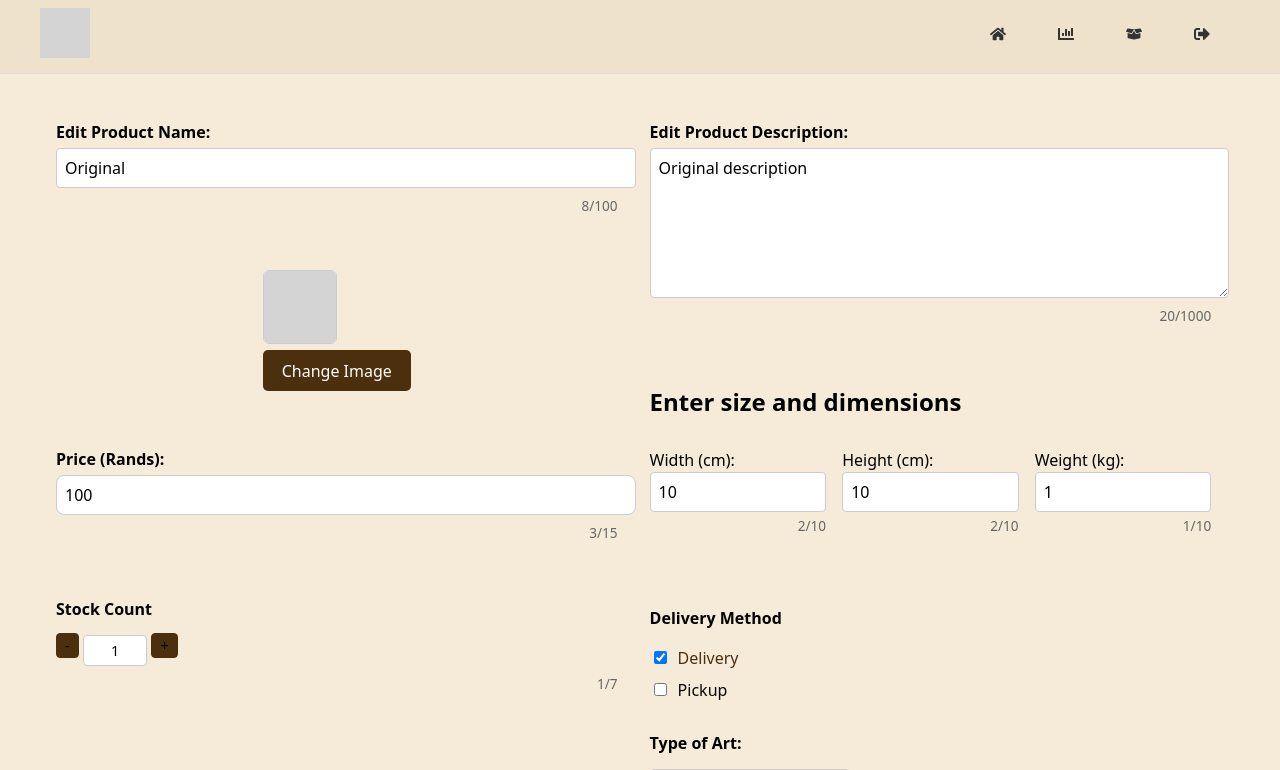
Test: EditProductPage Functional Tests › missing fields show warning popup
This screenshot has width=1280, height=770.
Clear the field labelled "Edit Product Name:" at (346, 168), box [56,148,636,188]
(page scrolled)
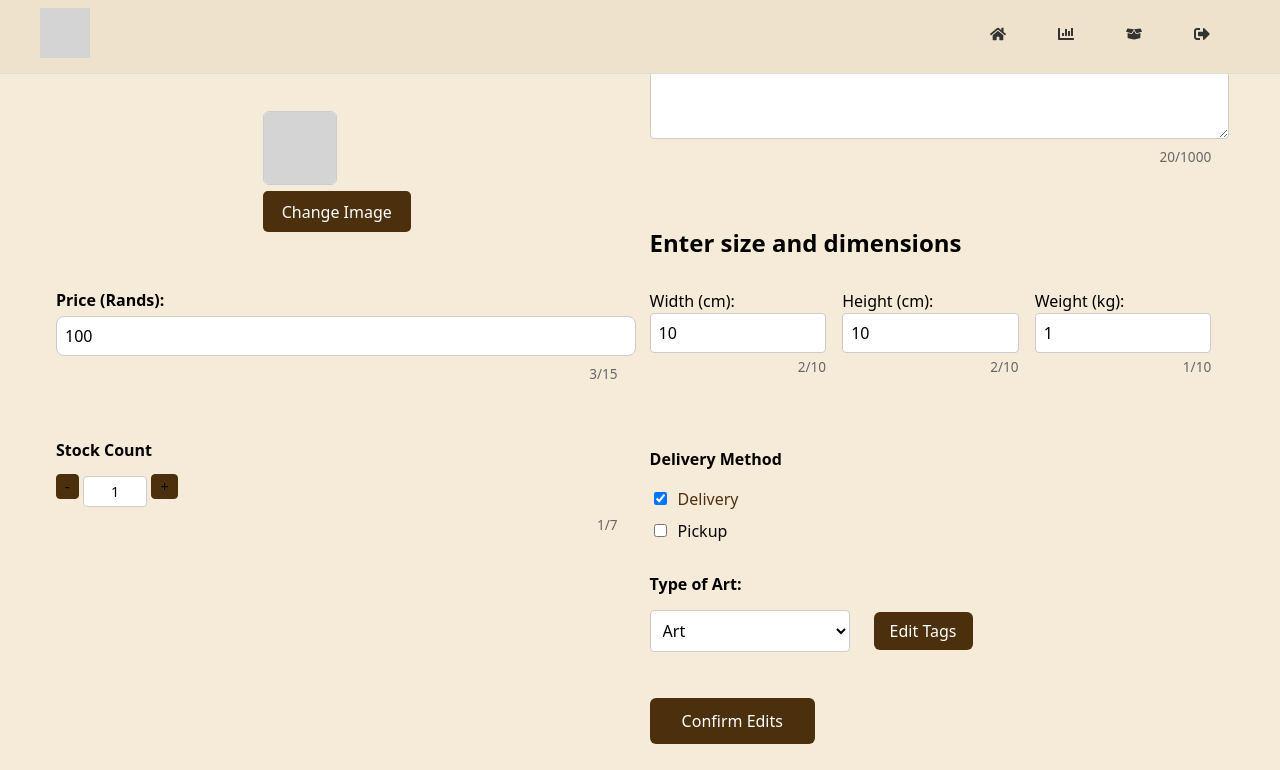
Click the button "Confirm Edits".
click(732, 721)  # box [650,698,815,744]
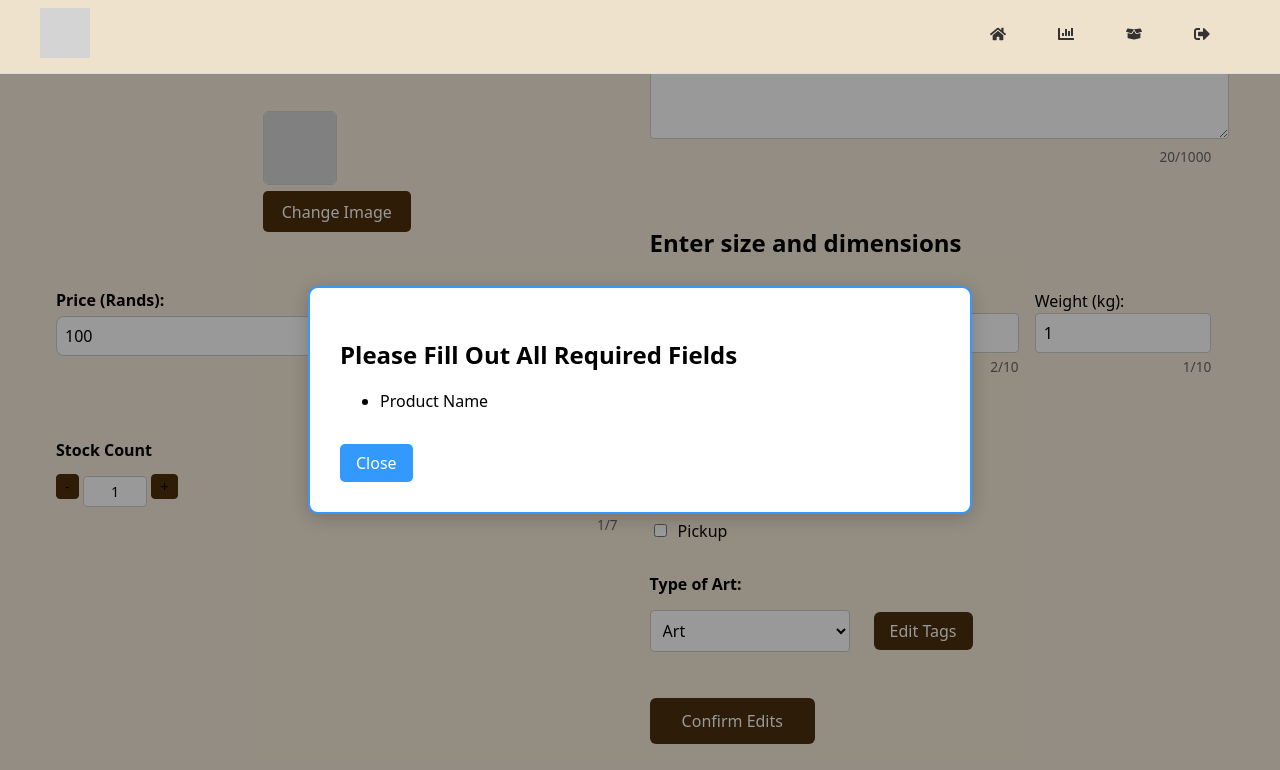
Now the heading "Please Fill Out All Required Fields" is shown, box [340,338,737,372]
